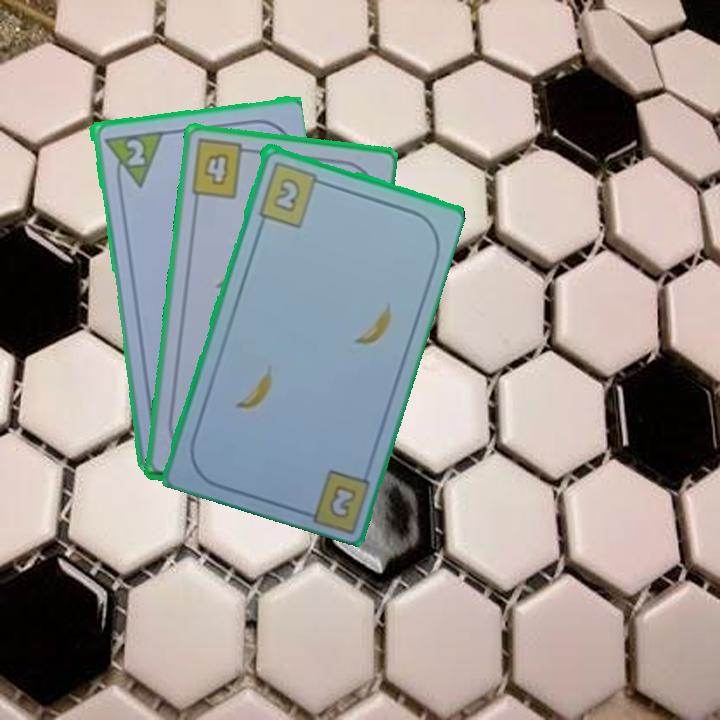2b: (255, 157, 328, 229), (325, 480, 359, 521)
2p: (99, 126, 164, 192)
4b: (187, 136, 256, 201)
